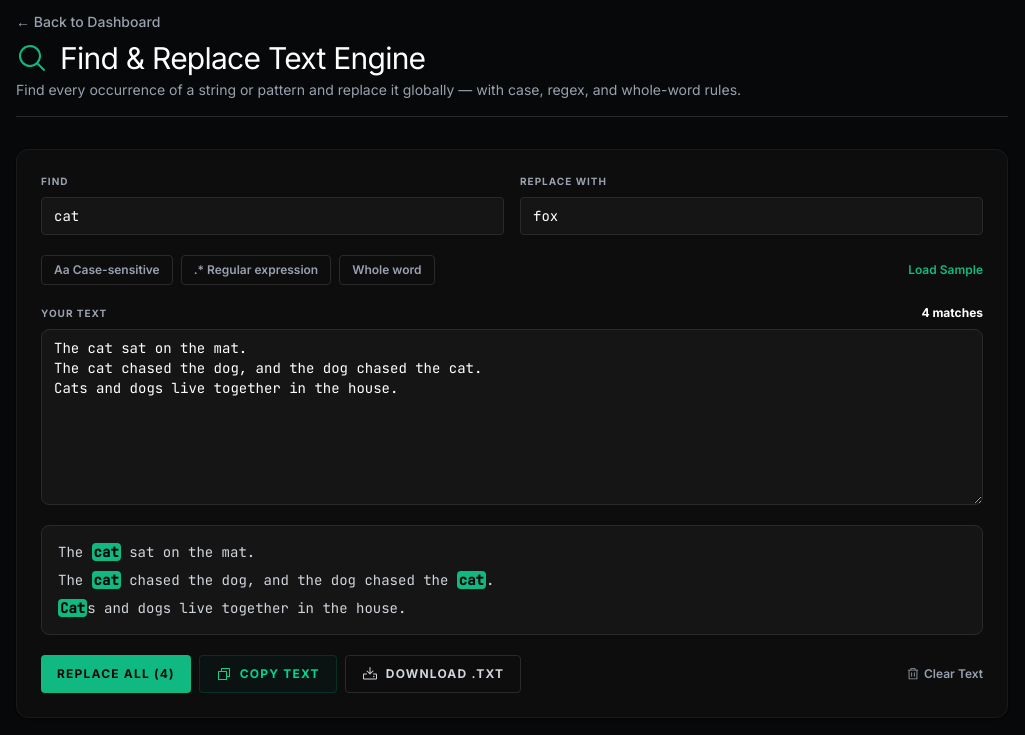
FindReplace › renders the sample, counts 4 matches, and Replace All rewrites the text
Expected: the text with test id "find-replace-count" reads "4 matches", x1=921 y1=305 x2=983 y2=320
Click the button "Replace All (4)".
click(116, 674)  # box x1=41 y1=655 x2=191 y2=693
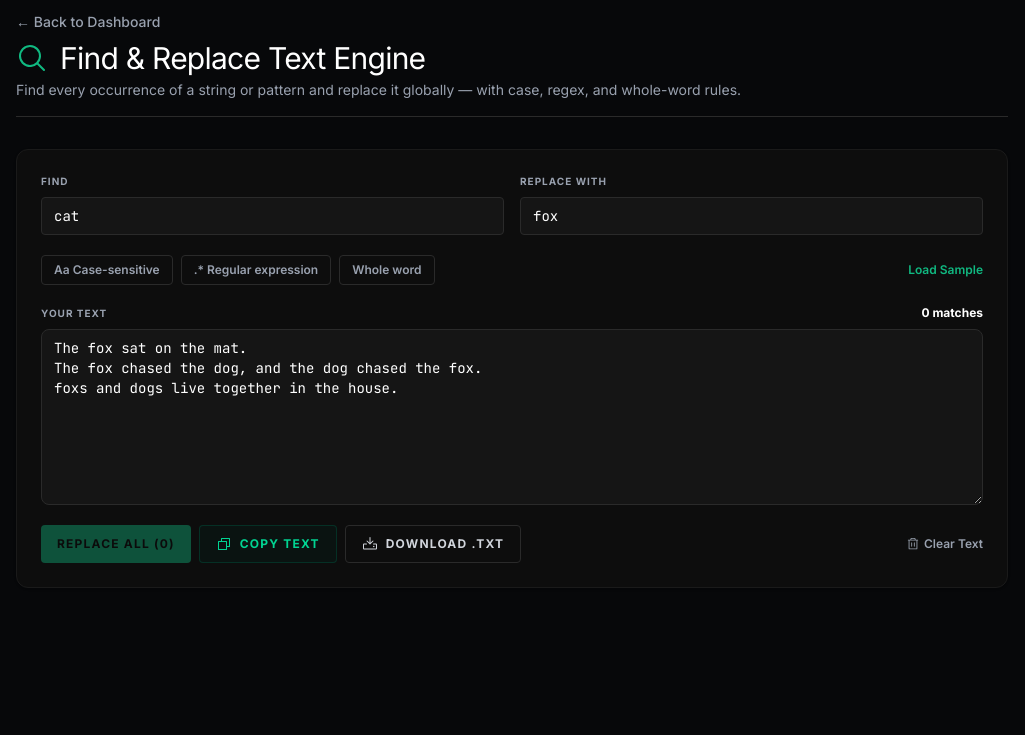
Result: the text with test id "find-replace-count" reads "0 matches" at x1=922 y1=305 x2=983 y2=320
